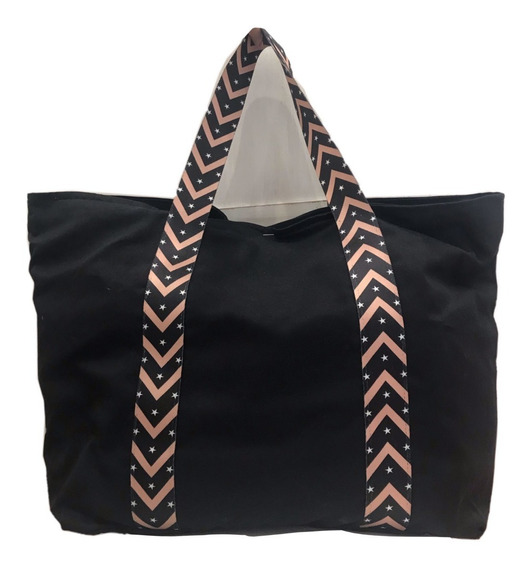cartera: (26, 27, 507, 541)
